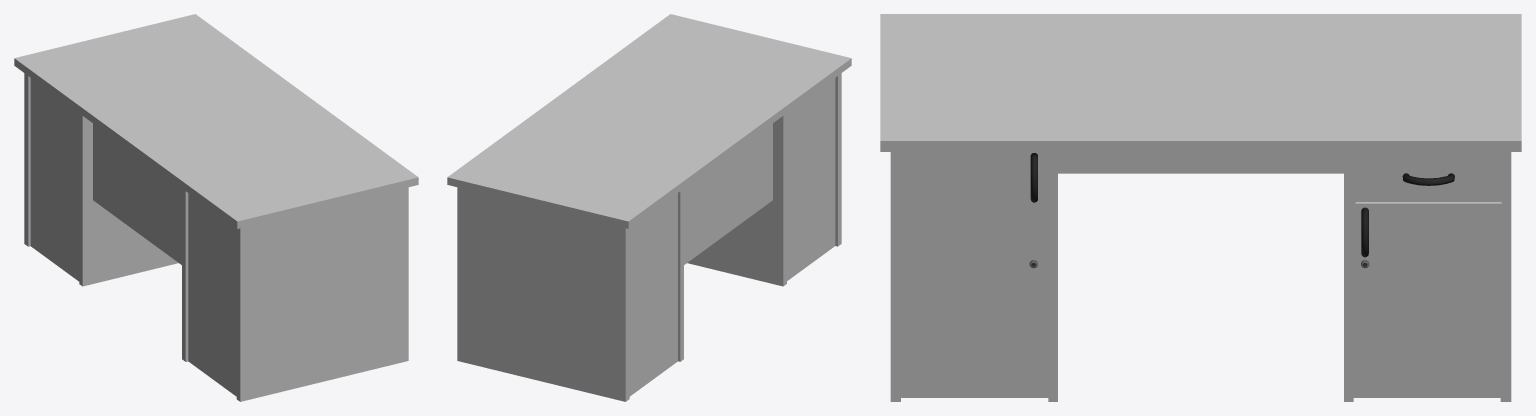
The model's file is biurkonaucz.fbx.
3 views of the same model, side by side, from view 1: azimuth 30°, elevation 25°; view 2: azimuth 150°, elevation 25°; view 3: azimuth 270°, elevation 25° (orthographic). The views are drawn at different scales.
Parts seen in each view (by area): view 1: Walec.000; view 2: Walec.000; view 3: Walec.000.
Part boxes in pixels (bbox=[...]): Walec.000: bbox=[14, 14, 418, 401]; Walec.000: bbox=[447, 14, 851, 401]; Walec.000: bbox=[880, 14, 1521, 401].
Bounding box in the file's own units: 77.46 × 72.96 × 160.
